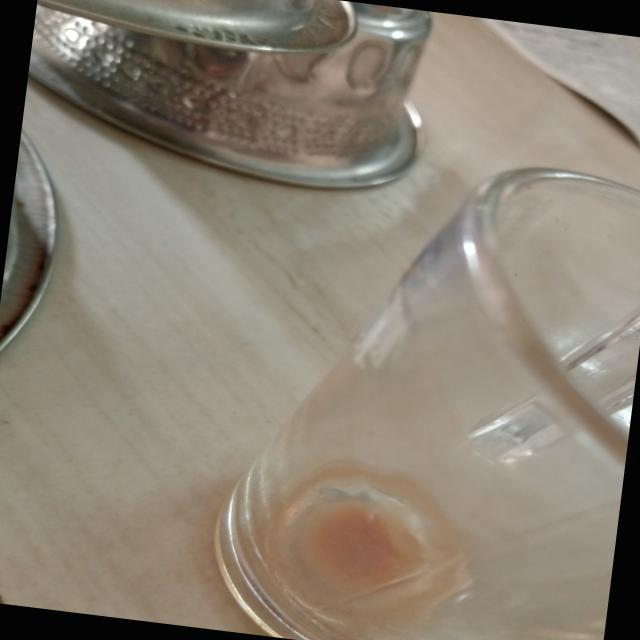glass-VX4N: (196, 118, 640, 640)
